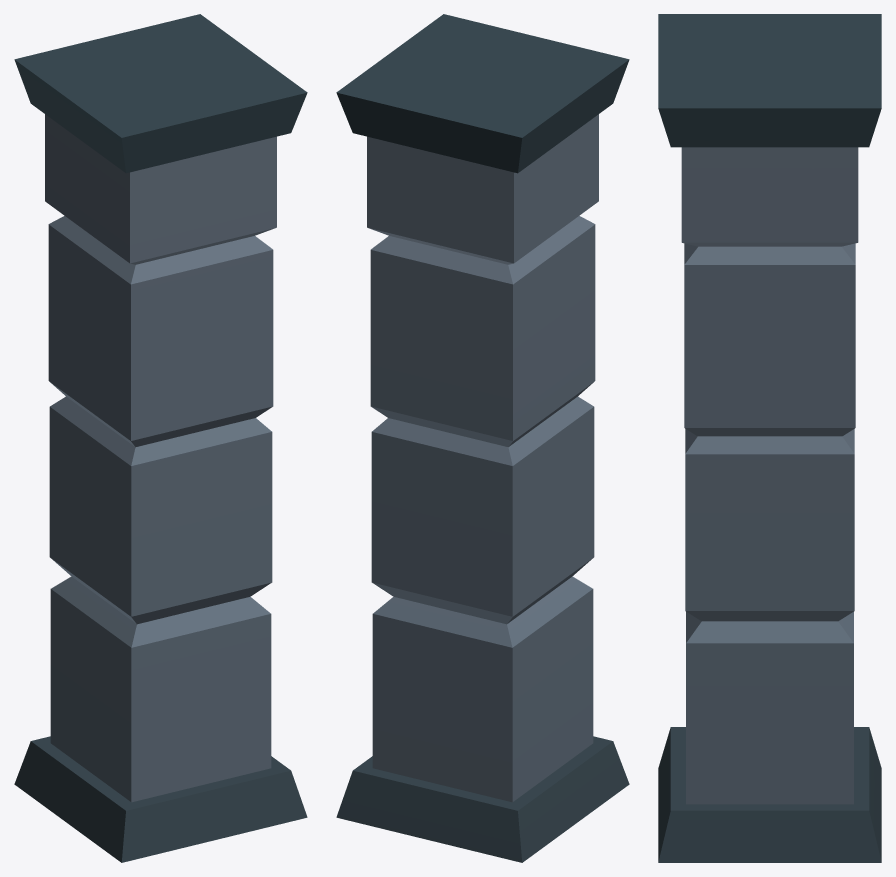
Rendered from Floor_pillar_A.fbx.
3 views of the same model, side by side, from view 1: azimuth 30°, elevation 25°; view 2: azimuth 150°, elevation 25°; view 3: azimuth 270°, elevation 25° (orthographic). The views are drawn at different scales.
Parts seen in each view (by area): view 1: Floor_pillar_A; view 2: Floor_pillar_A; view 3: Floor_pillar_A.
Part boxes in pixels (x1=…): Floor_pillar_A: x1=14, y1=14, x2=307, y2=862; Floor_pillar_A: x1=336, y1=14, x2=629, y2=862; Floor_pillar_A: x1=658, y1=14, x2=881, y2=862.
Size of the model in its own units: 100 by 373 by 100.
